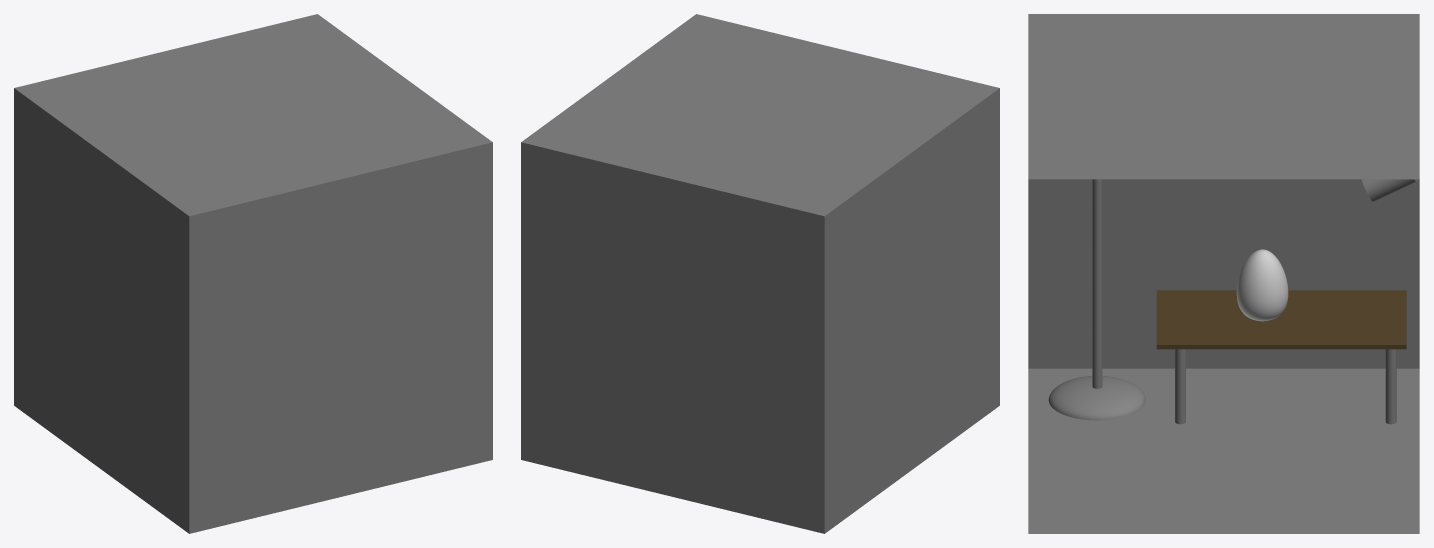
The model's file is veach-bdpt.obj.
The picture shows the model from 3 angles, left to right: view 1: azimuth 30°, elevation 25°; view 2: azimuth 150°, elevation 25°; view 3: azimuth 270°, elevation 25°; orthographic projection. The views are drawn at different scales.
Parts seen in each view (by area): view 1: room_Mesh010_room; view 2: room_Mesh010_room; view 3: room_Mesh010_room, table_Mesh000_table, stand_02_Mesh005_stand_02, glass_Mesh002_glass, stand_01_Mesh001_stand_01, leg_4_Mesh011_leg_4, leg_3_Mesh006_leg_3, small_light_Mesh004_small_light.
Part boxes in pixels (left/top/right/bottom): room_Mesh010_room: left=14, top=14, right=492, bottom=533; room_Mesh010_room: left=521, top=14, right=999, bottom=533; room_Mesh010_room: left=1028, top=14, right=1419, bottom=533; table_Mesh000_table: left=1156, top=290, right=1406, bottom=349; stand_02_Mesh005_stand_02: left=1048, top=375, right=1145, bottom=420; glass_Mesh002_glass: left=1236, top=249, right=1288, bottom=321; stand_01_Mesh001_stand_01: left=1092, top=179, right=1102, bottom=388; leg_4_Mesh011_leg_4: left=1385, top=349, right=1396, bottom=424; leg_3_Mesh006_leg_3: left=1175, top=349, right=1185, bottom=424; small_light_Mesh004_small_light: left=1361, top=179, right=1416, bottom=201.
Bounding box in the file's own units: 8 × 8.1 × 8.
